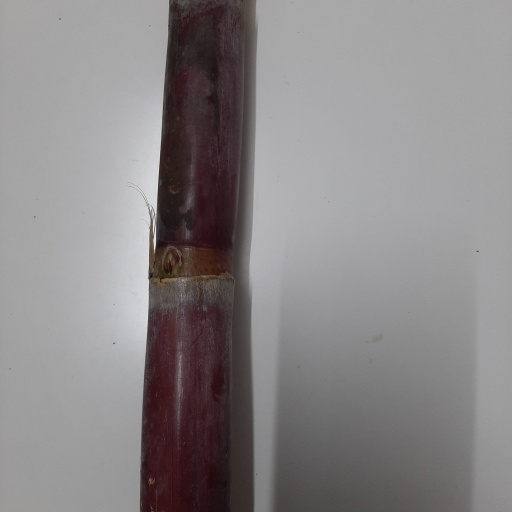Bud: (160, 246, 184, 277)
